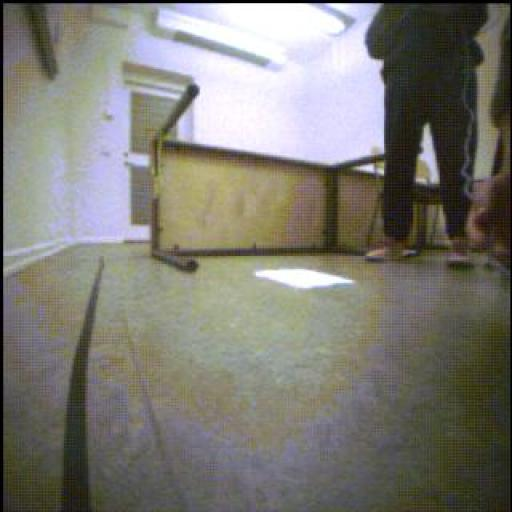Pad: (254, 268, 345, 290)
